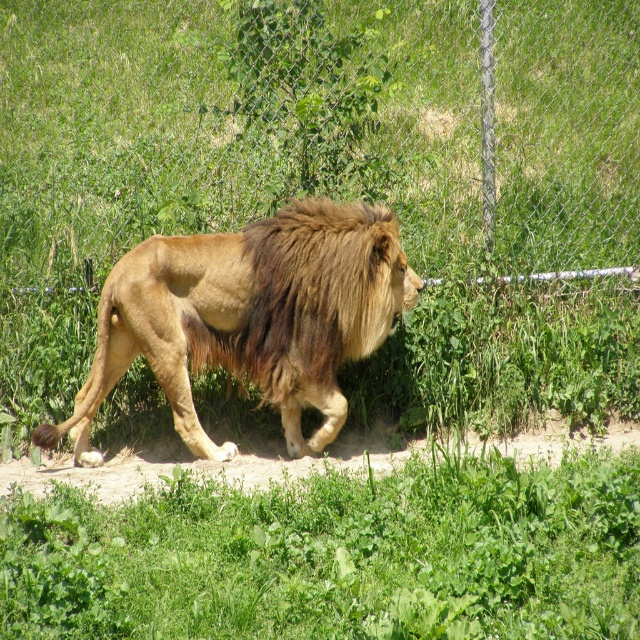Lion: (30, 196, 424, 469)
